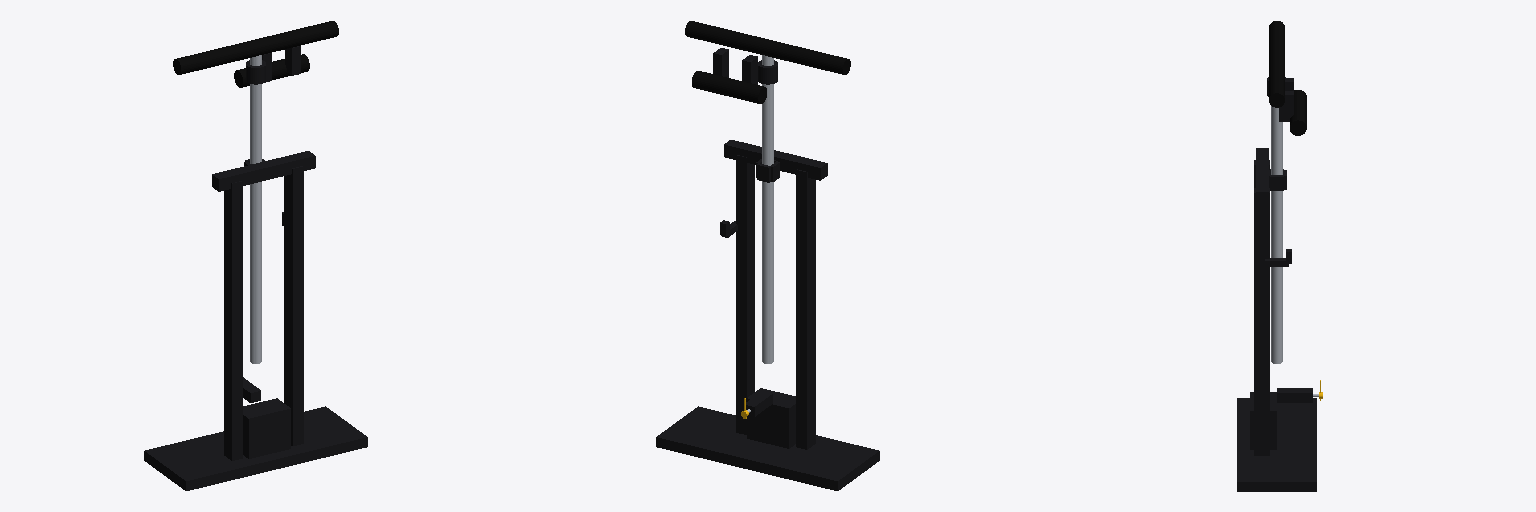
URDF robot description (floor_pump):
<robot name="floor_pump">
  <material name="frame_black">
    <color rgba="0.13 0.13 0.14 1" />
    </material>
  <material name="barrel_red">
    <color rgba="0.73 0.1 0.1 1" />
    </material>
  <material name="steel">
    <color rgba="0.71 0.73 0.76 1" />
    </material>
  <material name="rubber">
    <color rgba="0.08 0.08 0.08 1" />
    </material>
  <material name="gauge_white">
    <color rgba="0.94 0.94 0.92 1" />
    </material>
  <material name="needle_yellow">
    <color rgba="0.94 0.72 0.1 1" />
    </material>
  <link name="frame">
    <visual name="base">
      <origin xyz="0 0 0.008" rpy="0 0 0" />
      <geometry>
        <box size="0.3 0.12 0.016" />
        </geometry>
      <material name="frame_black" />
      </visual>
    <visual name="lower_brace">
      <origin xyz="0 -0.02 0.048" rpy="0 0 0" />
      <geometry>
        <box size="0.07 0.04 0.064" />
        </geometry>
      <material name="frame_black" />
      </visual>
    <visual name="support_0">
      <origin xyz="-0.05 -0.022 0.235" rpy="0 0 0" />
      <geometry>
        <box size="0.018 0.024 0.438" />
        </geometry>
      <material name="frame_black" />
      </visual>
    <visual name="support_1">
      <origin xyz="0.05 -0.022 0.235" rpy="0 0 0" />
      <geometry>
        <box size="0.018 0.024 0.438" />
        </geometry>
      <material name="frame_black" />
      </visual>
    <visual name="top_bridge">
      <origin xyz="0 -0.022 0.455" rpy="0 0 0" />
      <geometry>
        <box size="0.16 0.02 0.02" />
        </geometry>
      <material name="frame_black" />
      </visual>
    <visual name="barrel_shell">
      <geometry>
        <mesh filename="assets/meshes/barrel_shell.obj" />
        </geometry>
      <material name="barrel_red" />
      </visual>
    <visual name="gauge_stem">
      <origin xyz="0 0.027 0.09" rpy="0 0 0" />
      <geometry>
        <box size="0.018 0.054 0.016" />
        </geometry>
      <material name="frame_black" />
      </visual>
    <visual name="guide_0">
      <origin xyz="-0.0115 0 0.448" rpy="0 0 0" />
      <geometry>
        <box size="0.006 0.02 0.024" />
        </geometry>
      <material name="frame_black" />
      </visual>
    <visual name="guide_1">
      <origin xyz="0.0115 0 0.448" rpy="0 0 0" />
      <geometry>
        <box size="0.006 0.02 0.024" />
        </geometry>
      <material name="frame_black" />
      </visual>
    <visual name="guide_2">
      <origin xyz="0 -0.0115 0.448" rpy="0 0 0" />
      <geometry>
        <box size="0.02 0.006 0.024" />
        </geometry>
      <material name="frame_black" />
      </visual>
    <visual name="guide_3">
      <origin xyz="0 0.0115 0.448" rpy="0 0 0" />
      <geometry>
        <box size="0.02 0.006 0.024" />
        </geometry>
      <material name="frame_black" />
      </visual>
    <visual name="gauge_bezel">
      <geometry>
        <mesh filename="assets/meshes/gauge_bezel.obj" />
        </geometry>
      <material name="gauge_white" />
      </visual>
    <visual name="gauge_axle">
      <origin xyz="0 0.058 0.09" rpy="1.5708 0 0" />
      <geometry>
        <cylinder radius="0.0025" length="0.01" />
        </geometry>
      <material name="steel" />
      </visual>
    <visual name="hook_arm">
      <origin xyz="0.061 0 0.34" rpy="0 0 0" />
      <geometry>
        <box size="0.01 0.036 0.01" />
        </geometry>
      <material name="frame_black" />
      </visual>
    <visual name="hook_tip">
      <origin xyz="0.061 0.018 0.349" rpy="0 0 0" />
      <geometry>
        <box size="0.01 0.01 0.02" />
        </geometry>
      <material name="frame_black" />
      </visual>
    <collision name="base">
      <origin xyz="0 0 0.008" rpy="0 0 0" />
      <geometry>
        <box size="0.3 0.12 0.016" />
        </geometry>
      </collision>
    <collision name="lower_brace">
      <origin xyz="0 -0.02 0.048" rpy="0 0 0" />
      <geometry>
        <box size="0.07 0.04 0.064" />
        </geometry>
      </collision>
    <collision name="support_0">
      <origin xyz="-0.05 -0.022 0.235" rpy="0 0 0" />
      <geometry>
        <box size="0.018 0.024 0.438" />
        </geometry>
      </collision>
    <collision name="support_1">
      <origin xyz="0.05 -0.022 0.235" rpy="0 0 0" />
      <geometry>
        <box size="0.018 0.024 0.438" />
        </geometry>
      </collision>
    <collision name="top_bridge">
      <origin xyz="0 -0.022 0.455" rpy="0 0 0" />
      <geometry>
        <box size="0.16 0.02 0.02" />
        </geometry>
      </collision>
    <collision name="barrel_shell">
      <geometry>
        <mesh filename="assets/meshes/barrel_shell.obj" />
        </geometry>
      </collision>
    <collision name="gauge_stem">
      <origin xyz="0 0.027 0.09" rpy="0 0 0" />
      <geometry>
        <box size="0.018 0.054 0.016" />
        </geometry>
      </collision>
    <collision name="guide_0">
      <origin xyz="-0.0115 0 0.448" rpy="0 0 0" />
      <geometry>
        <box size="0.006 0.02 0.024" />
        </geometry>
      </collision>
    <collision name="guide_1">
      <origin xyz="0.0115 0 0.448" rpy="0 0 0" />
      <geometry>
        <box size="0.006 0.02 0.024" />
        </geometry>
      </collision>
    <collision name="guide_2">
      <origin xyz="0 -0.0115 0.448" rpy="0 0 0" />
      <geometry>
        <box size="0.02 0.006 0.024" />
        </geometry>
      </collision>
    <collision name="guide_3">
      <origin xyz="0 0.0115 0.448" rpy="0 0 0" />
      <geometry>
        <box size="0.02 0.006 0.024" />
        </geometry>
      </collision>
    <collision name="gauge_bezel">
      <geometry>
        <mesh filename="assets/meshes/gauge_bezel.obj" />
        </geometry>
      </collision>
    <collision name="gauge_axle">
      <origin xyz="0 0.058 0.09" rpy="1.5708 0 0" />
      <geometry>
        <cylinder radius="0.0025" length="0.01" />
        </geometry>
      </collision>
    <collision name="hook_arm">
      <origin xyz="0.061 0 0.34" rpy="0 0 0" />
      <geometry>
        <box size="0.01 0.036 0.01" />
        </geometry>
      </collision>
    <collision name="hook_tip">
      <origin xyz="0.061 0.018 0.349" rpy="0 0 0" />
      <geometry>
        <box size="0.01 0.01 0.02" />
        </geometry>
      </collision>
    </link>
  <link name="handle">
    <visual name="rod">
      <origin xyz="0 0 -0.04" rpy="0 0 0" />
      <geometry>
        <cylinder radius="0.0085" length="0.5" />
        </geometry>
      <material name="steel" />
      </visual>
    <visual name="crossbar">
      <origin xyz="0 0 0.205" rpy="0 1.5708 0" />
      <geometry>
        <cylinder radius="0.012" length="0.26" />
        </geometry>
      <material name="rubber" />
      </visual>
    <visual name="handle_boss">
      <origin xyz="0 0 0.167" rpy="0 0 0" />
      <geometry>
        <cylinder radius="0.015" length="0.026" />
        </geometry>
      <material name="frame_black" />
      </visual>
    <collision name="rod">
      <origin xyz="0 0 -0.04" rpy="0 0 0" />
      <geometry>
        <cylinder radius="0.0085" length="0.5" />
        </geometry>
      </collision>
    <collision name="crossbar">
      <origin xyz="0 0 0.205" rpy="0 1.5708 0" />
      <geometry>
        <cylinder radius="0.012" length="0.26" />
        </geometry>
      </collision>
    <collision name="handle_boss">
      <origin xyz="0 0 0.167" rpy="0 0 0" />
      <geometry>
        <cylinder radius="0.015" length="0.026" />
        </geometry>
      </collision>
    </link>
  <link name="grip">
    <visual name="sleeve">
      <geometry>
        <mesh filename="assets/meshes/grip_sleeve.obj" />
        </geometry>
      <material name="steel" />
      </visual>
    <visual name="link_0">
      <origin xyz="-0.024 0.014 -0.038" rpy="0 0 0" />
      <geometry>
        <box size="0.014 0.022 0.044" />
        </geometry>
      <material name="frame_black" />
      </visual>
    <visual name="link_1">
      <origin xyz="0.024 0.014 -0.038" rpy="0 0 0" />
      <geometry>
        <box size="0.014 0.022 0.044" />
        </geometry>
      <material name="frame_black" />
      </visual>
    <visual name="grip_bar">
      <origin xyz="0 0.032 -0.06" rpy="0 1.5708 0" />
      <geometry>
        <cylinder radius="0.013" length="0.11" />
        </geometry>
      <material name="rubber" />
      </visual>
    <collision name="sleeve">
      <geometry>
        <mesh filename="assets/meshes/grip_sleeve.obj" />
        </geometry>
      </collision>
    <collision name="link_0">
      <origin xyz="-0.024 0.014 -0.038" rpy="0 0 0" />
      <geometry>
        <box size="0.014 0.022 0.044" />
        </geometry>
      </collision>
    <collision name="link_1">
      <origin xyz="0.024 0.014 -0.038" rpy="0 0 0" />
      <geometry>
        <box size="0.014 0.022 0.044" />
        </geometry>
      </collision>
    <collision name="grip_bar">
      <origin xyz="0 0.032 -0.06" rpy="0 1.5708 0" />
      <geometry>
        <cylinder radius="0.013" length="0.11" />
        </geometry>
      </collision>
    </link>
  <link name="needle">
    <visual name="hub">
      <origin xyz="0 0 0" rpy="1.5708 0 0" />
      <geometry>
        <cylinder radius="0.005" length="0.006" />
        </geometry>
      <material name="needle_yellow" />
      </visual>
    <visual name="pointer">
      <origin xyz="0 0 0.013" rpy="0 0 0" />
      <geometry>
        <box size="0.003 0.002 0.024" />
        </geometry>
      <material name="needle_yellow" />
      </visual>
    <visual name="counterweight">
      <origin xyz="0 0 -0.004" rpy="0 0 0" />
      <geometry>
        <box size="0.006 0.002 0.007" />
        </geometry>
      <material name="needle_yellow" />
      </visual>
    <collision name="hub">
      <origin xyz="0 0 0" rpy="1.5708 0 0" />
      <geometry>
        <cylinder radius="0.005" length="0.006" />
        </geometry>
      </collision>
    <collision name="pointer">
      <origin xyz="0 0 0.013" rpy="0 0 0" />
      <geometry>
        <box size="0.003 0.002 0.024" />
        </geometry>
      </collision>
    <collision name="counterweight">
      <origin xyz="0 0 -0.004" rpy="0 0 0" />
      <geometry>
        <box size="0.006 0.002 0.007" />
        </geometry>
      </collision>
    </link>
  <joint name="frame_to_handle" type="prismatic">
    <origin xyz="0 0 0.436" rpy="0 0 0" />
    <parent link="frame" />
    <child link="handle" />
    <axis xyz="0 0 1" />
    <limit effort="40" velocity="0.6" lower="0" upper="0.18" />
    </joint>
  <joint name="handle_to_grip" type="continuous">
    <origin xyz="0.045 0 0.205" rpy="0 0 0" />
    <parent link="handle" />
    <child link="grip" />
    <axis xyz="1 0 0" />
    <limit effort="3" velocity="6" />
    </joint>
  <joint name="frame_to_needle" type="revolute">
    <origin xyz="0 0.066 0.09" rpy="0 0 0" />
    <parent link="frame" />
    <child link="needle" />
    <axis xyz="0 1 0" />
    <limit effort="0.2" velocity="8" lower="-1.2" upper="1.2" />
    </joint>
  </robot>

--- Facts derived from the render (not from the file) ---
Views: 3 orthographic renders of the robot side by side, from view 1: azimuth 30°, elevation 25°; view 2: azimuth 150°, elevation 25°; view 3: azimuth 270°, elevation 25°.
Robot: floor_pump — 4 links, 3 joints (1 revolute, 1 continuous, 1 prismatic); root link frame; default pose: all joints at 0.
Links seen in each view (by area): view 1: frame, handle, grip; view 2: frame, handle, grip; view 3: frame, handle, grip.
Link boxes in pixels (x1,y1,x2,y2): frame: (144, 151, 367, 490); handle: (173, 21, 338, 363); grip: (234, 46, 309, 87); frame: (656, 140, 879, 490); handle: (685, 21, 850, 363); grip: (692, 48, 766, 103); frame: (1237, 148, 1318, 491); handle: (1267, 21, 1285, 363); grip: (1279, 78, 1306, 135).
Size in the robot's own frame: 0.3 by 0.129 by 0.653 metres.
Meshes: 3 distinct files referenced, 0 mesh visuals loaded (none loaded); not drawn: 3 (reference not matched to a file when rendering).
